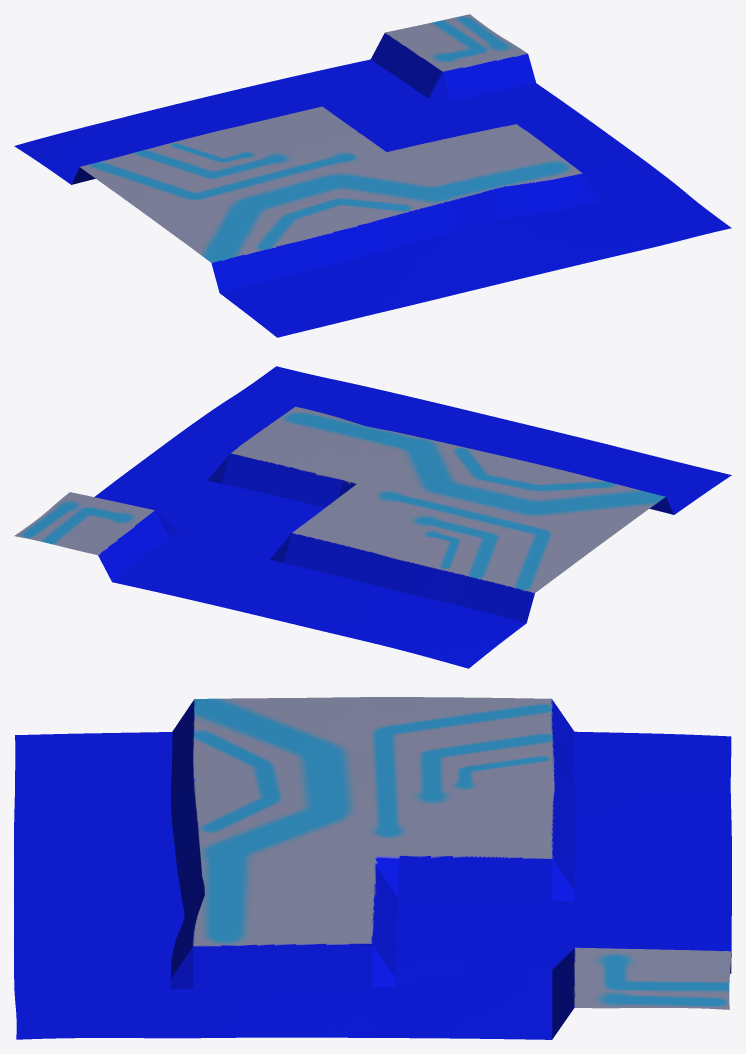
The model's file is SimplisticTerrain 1.fbx.
3 renders of one model, top to bottom at view 1: azimuth 30°, elevation 25°; view 2: azimuth 150°, elevation 25°; view 3: azimuth 270°, elevation 25°, orthographic. The views are drawn at different scales.
Visible parts, largest first — view 1: Plane; view 2: Plane; view 3: Plane.
Boxes of the visible parts, x1,y1,x2,y2 form: Plane: [14, 14, 731, 337]; Plane: [14, 366, 731, 668]; Plane: [14, 697, 731, 1039].
Size of the model in its own units: 4011 by 263 by 4007.
